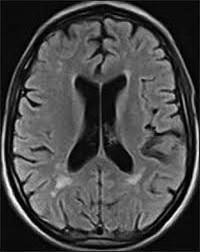Normal_Brain: (3, 3, 200, 252)
